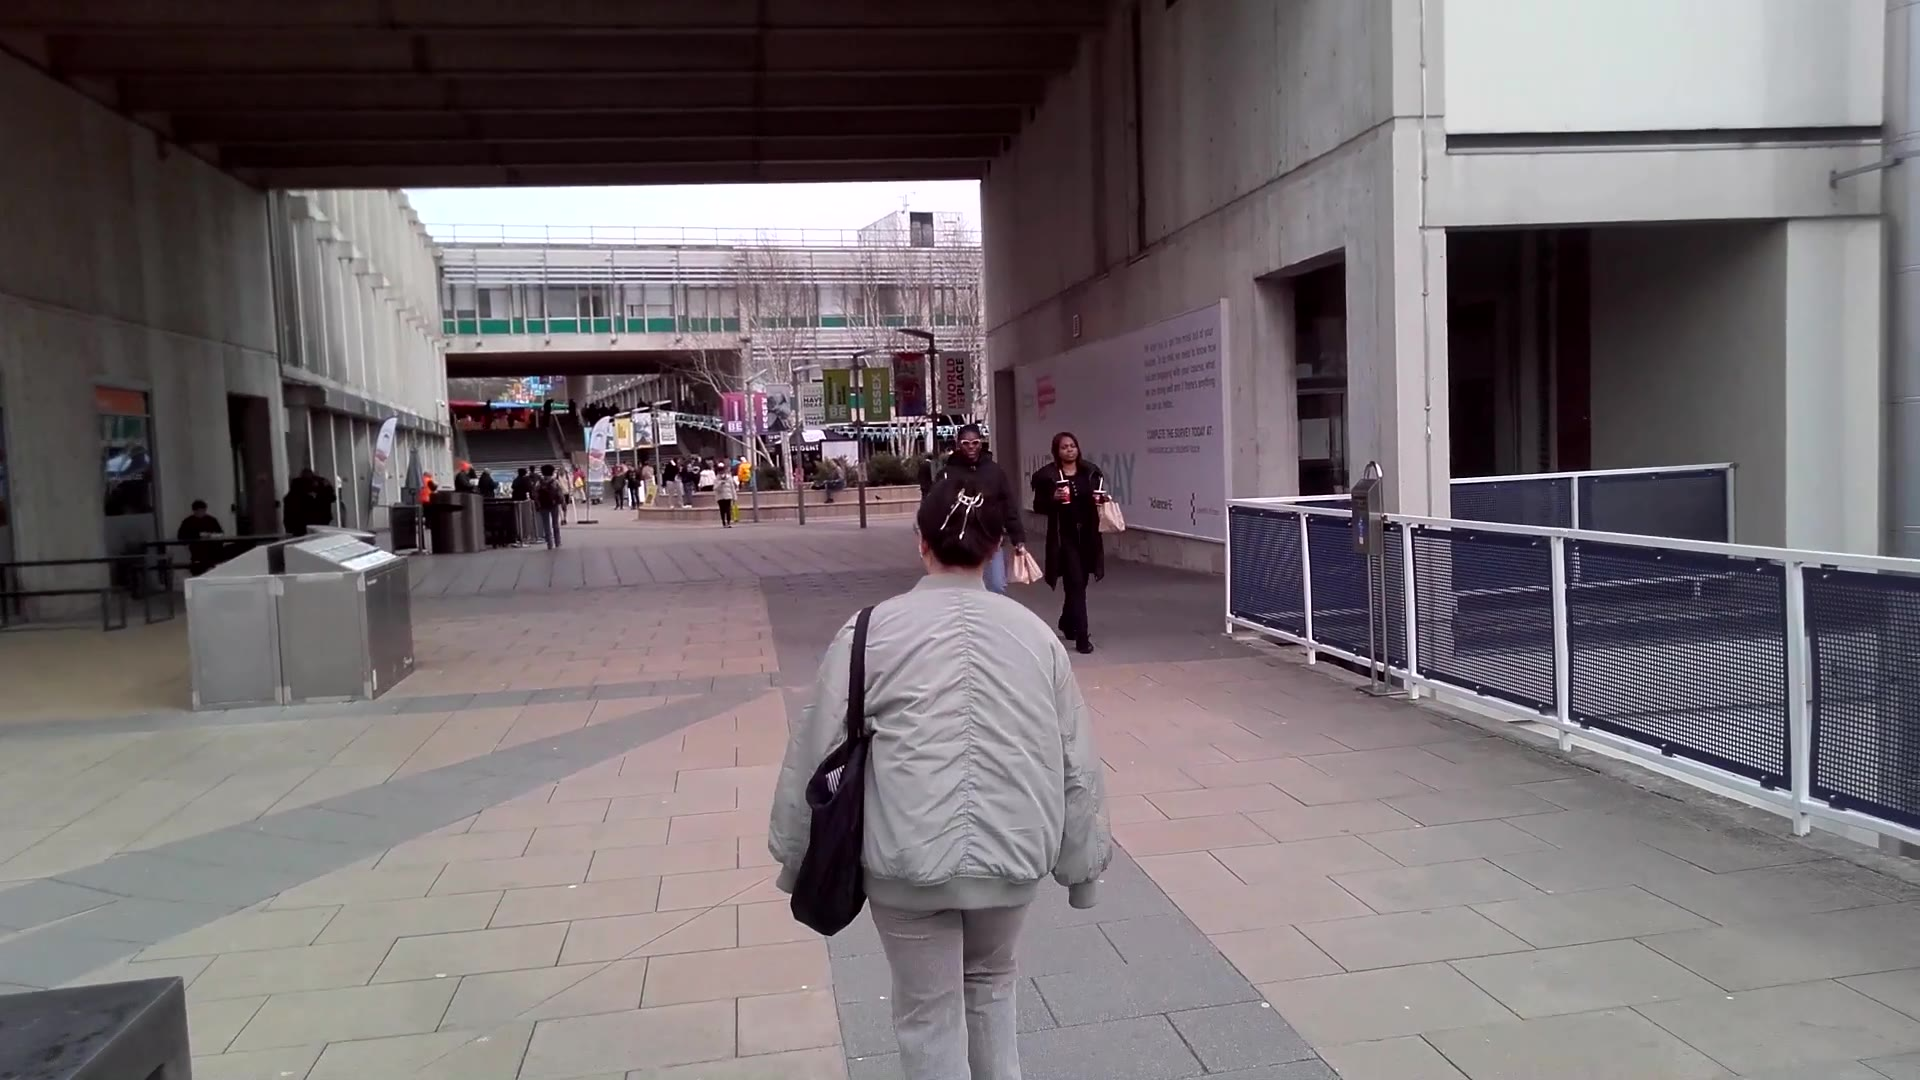Backpack: (796, 737, 876, 938)
Bin: (290, 533, 421, 699), (182, 541, 289, 703), (429, 485, 498, 555)
Person: (829, 470, 1087, 1080), (1042, 435, 1118, 657), (534, 465, 566, 553)
